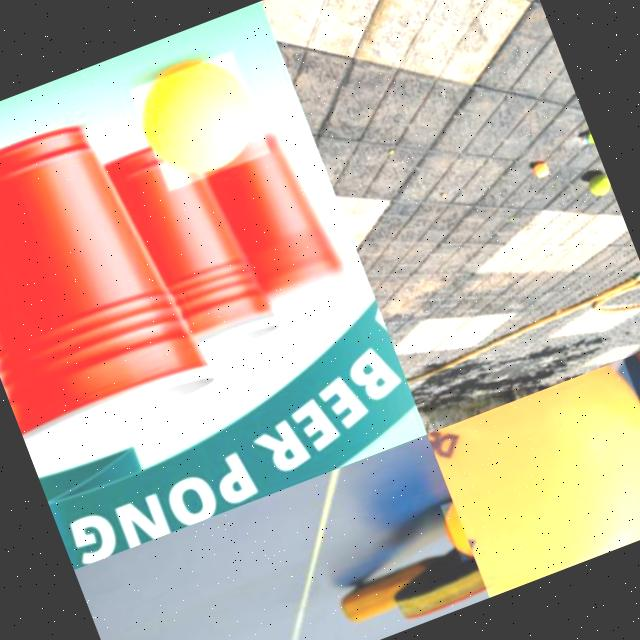ping-pong-ball: (427, 358, 640, 597), (128, 50, 270, 192), (436, 498, 474, 562), (531, 160, 549, 178)
